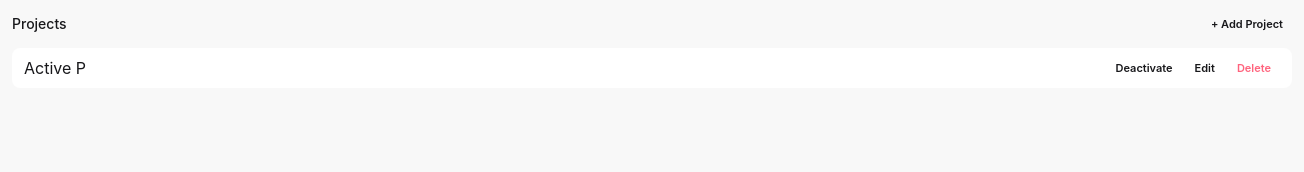
Test: ProjectList - edit/toggle/delete › opens edit form with current values
Click the button "Edit" at (1205, 68), box [1186,56,1224,80]
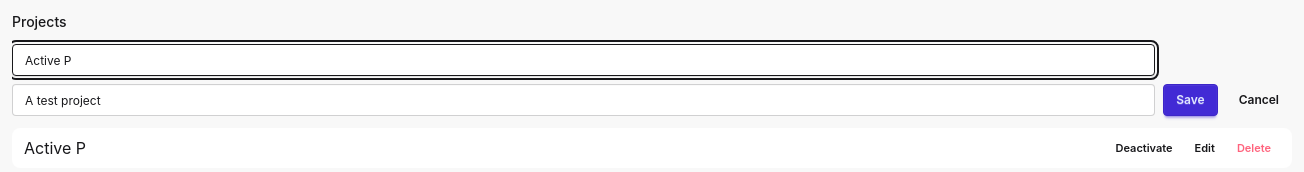
Expected: the 1st field showing "Active P" is shown, [12,44,1155,76]
